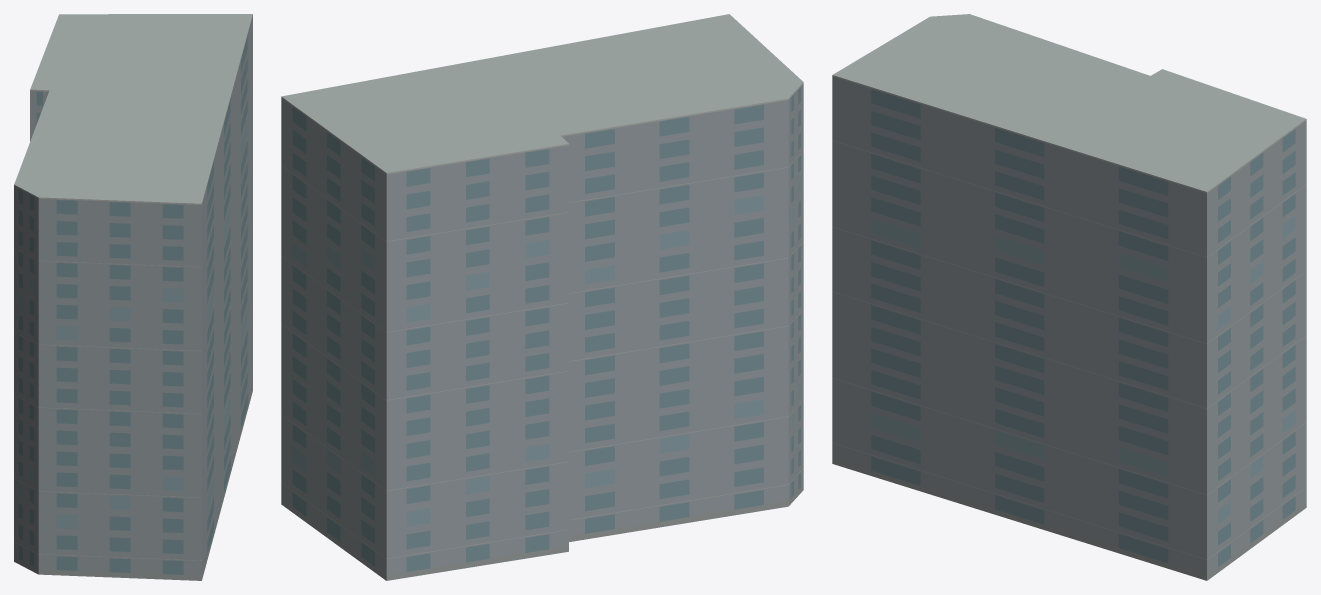
File: survey-upis-33046708.glb
The picture shows the model from 3 angles, left to right: view 1: azimuth 30°, elevation 25°; view 2: azimuth 150°, elevation 25°; view 3: azimuth 270°, elevation 25°; orthographic projection. The views are drawn at different scales.
Visible parts, largest first — view 1: survey-upis-33046708.tmp; view 2: survey-upis-33046708.tmp; view 3: survey-upis-33046708.tmp.
Boxes of the visible parts, <box> form: survey-upis-33046708.tmp: <box>14,14,252,580</box>; survey-upis-33046708.tmp: <box>281,14,803,580</box>; survey-upis-33046708.tmp: <box>832,14,1306,580</box>.
Size of the model in its own units: 66.78 by 68 by 75.15.
